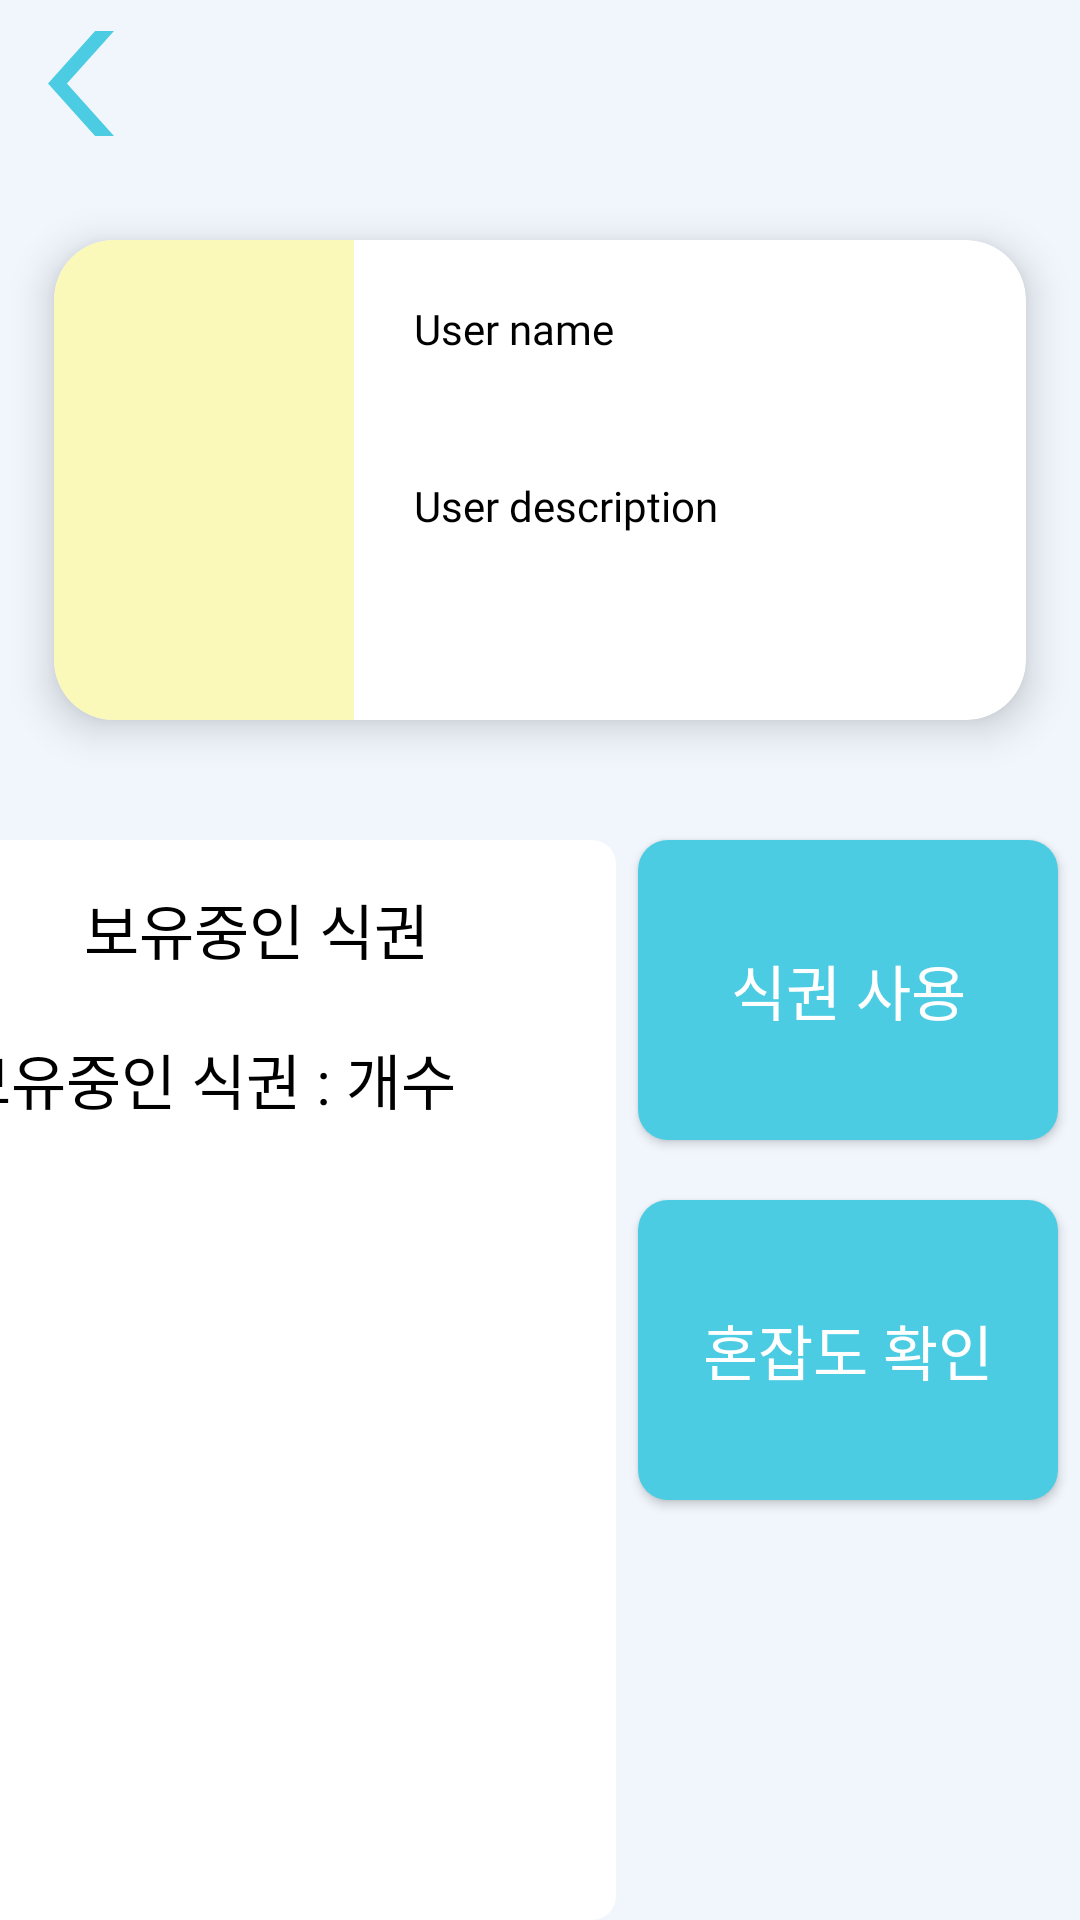

Locate icon controls on the screen. Image size 1080×1920, boxes as (x1, y1, x2, y2).
arrow: (48, 31, 114, 136)
